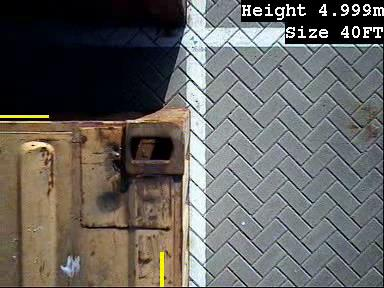groundmarker_2: (112, 91, 170, 128), (111, 219, 168, 256)
